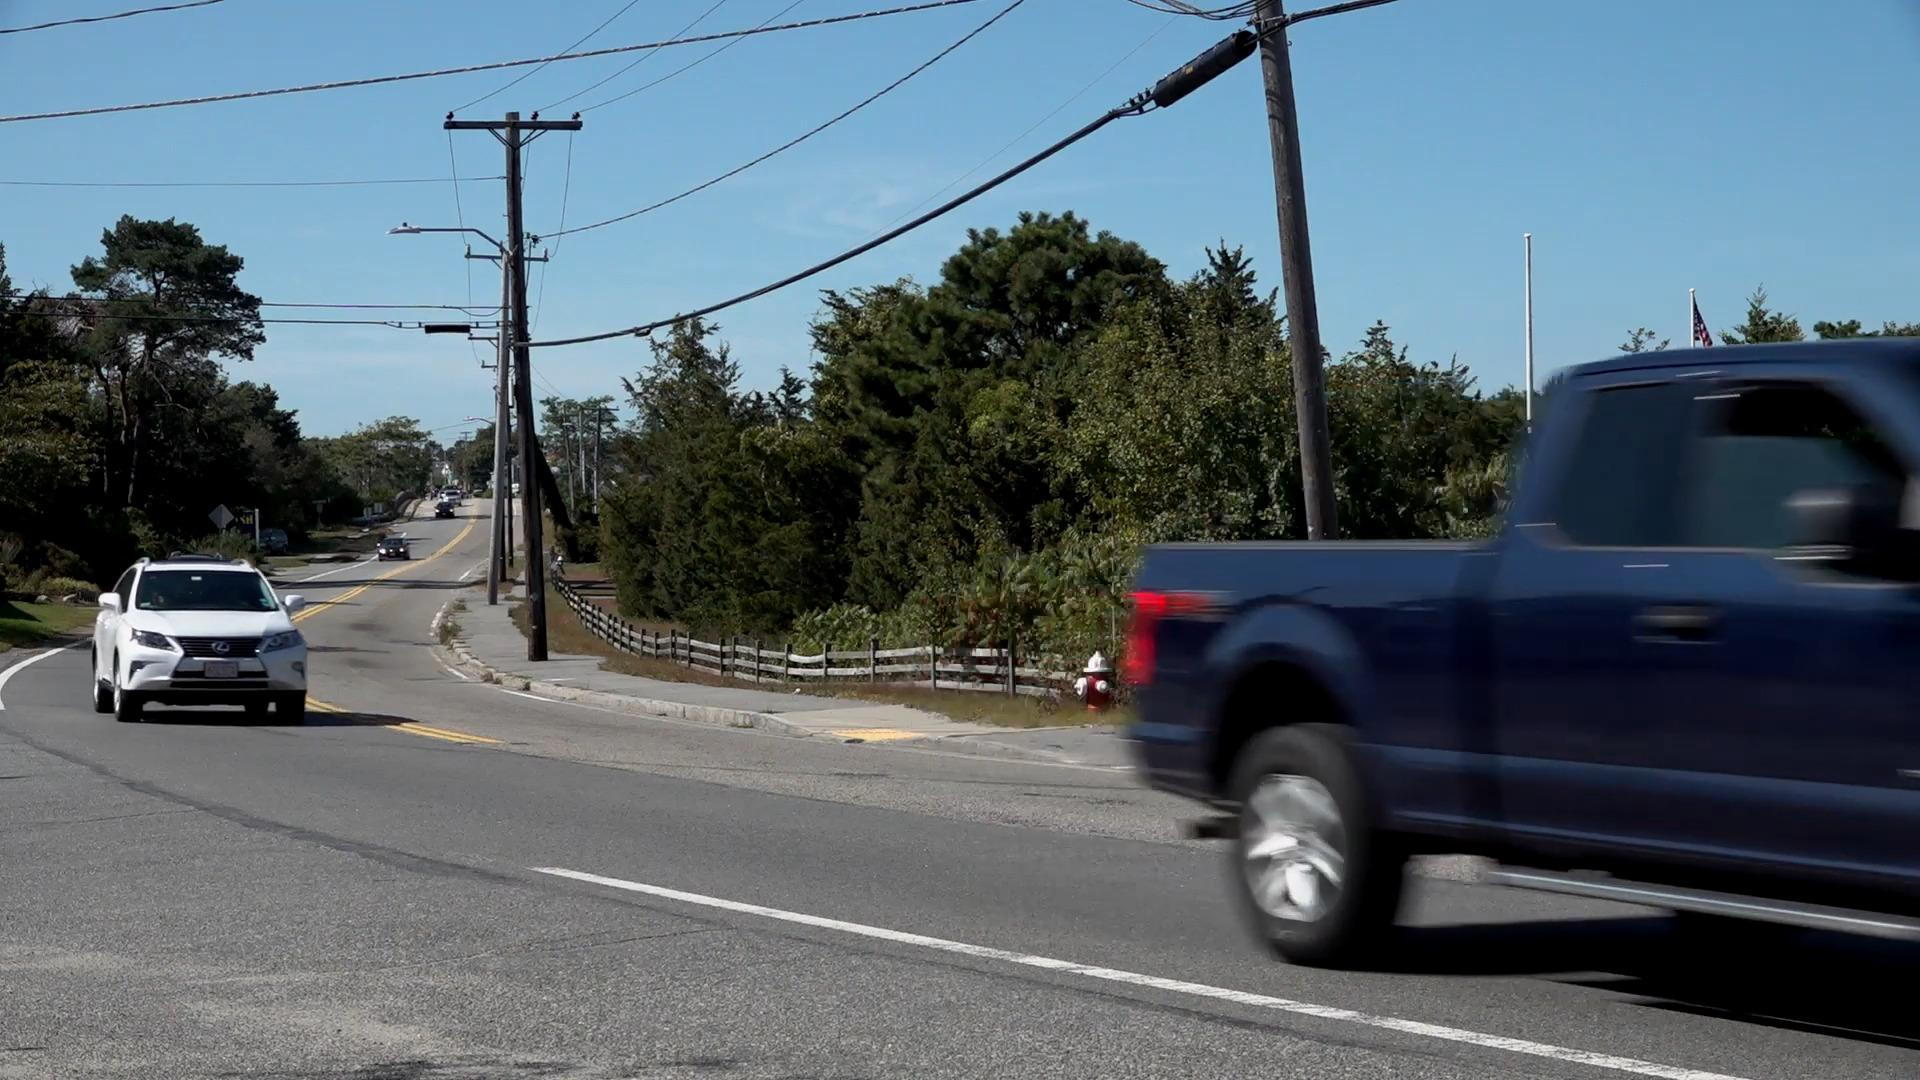pickup: (1130, 335, 1920, 988)
suv: (95, 558, 307, 727)
